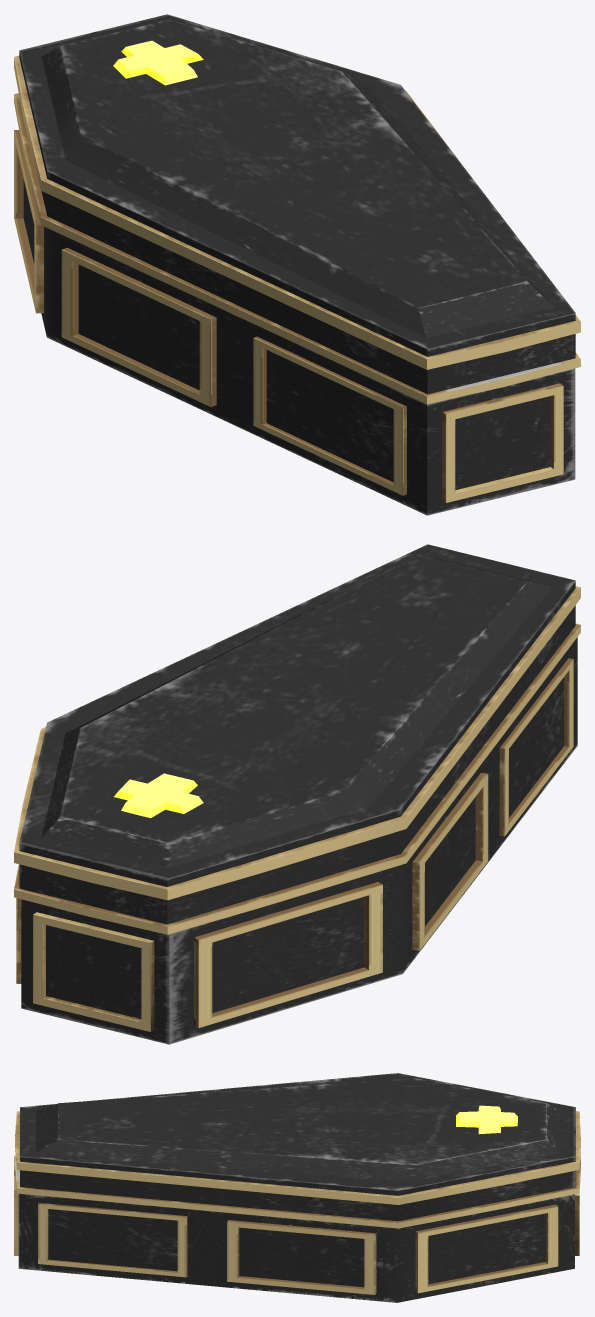
File: coffin.glb
3 renders of one model, top to bottom at view 1: azimuth 30°, elevation 25°; view 2: azimuth 150°, elevation 25°; view 3: azimuth 270°, elevation 25°, orthographic. The views are drawn at different scales.
Visible parts, largest first — view 1: coffin_lid_low, coffin_base_low; view 2: coffin_lid_low, coffin_base_low; view 3: coffin_lid_low, coffin_base_low.
Part boxes in pixels (x1=…): coffin_lid_low: x1=14, y1=14, x2=580, y2=404; coffin_base_low: x1=14, y1=130, x2=575, y2=515; coffin_lid_low: x1=14, y1=544, x2=580, y2=934; coffin_base_low: x1=16, y1=637, x2=577, y2=1044; coffin_lid_low: x1=15, y1=1073, x2=580, y2=1228; coffin_base_low: x1=14, y1=1156, x2=579, y2=1302.
Size of the model in its own units: 0.0723 by 0.0354 by 0.1427.
1 material, 1 textured.
